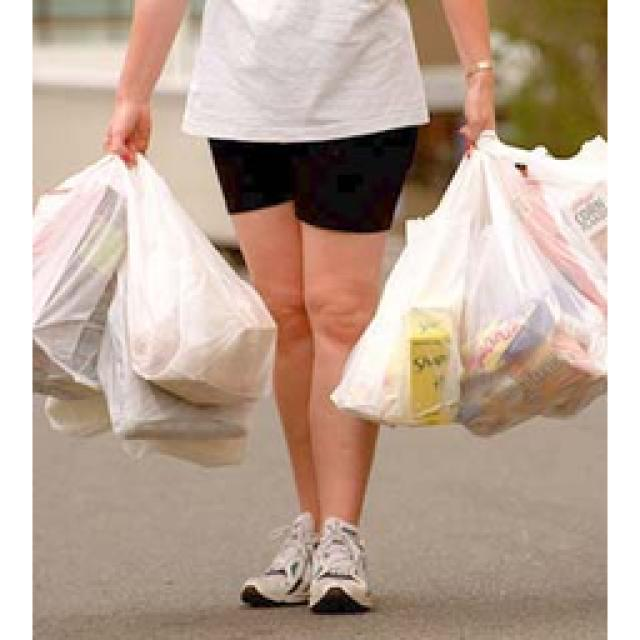plastic: (332, 132, 605, 432), (32, 155, 272, 462)
